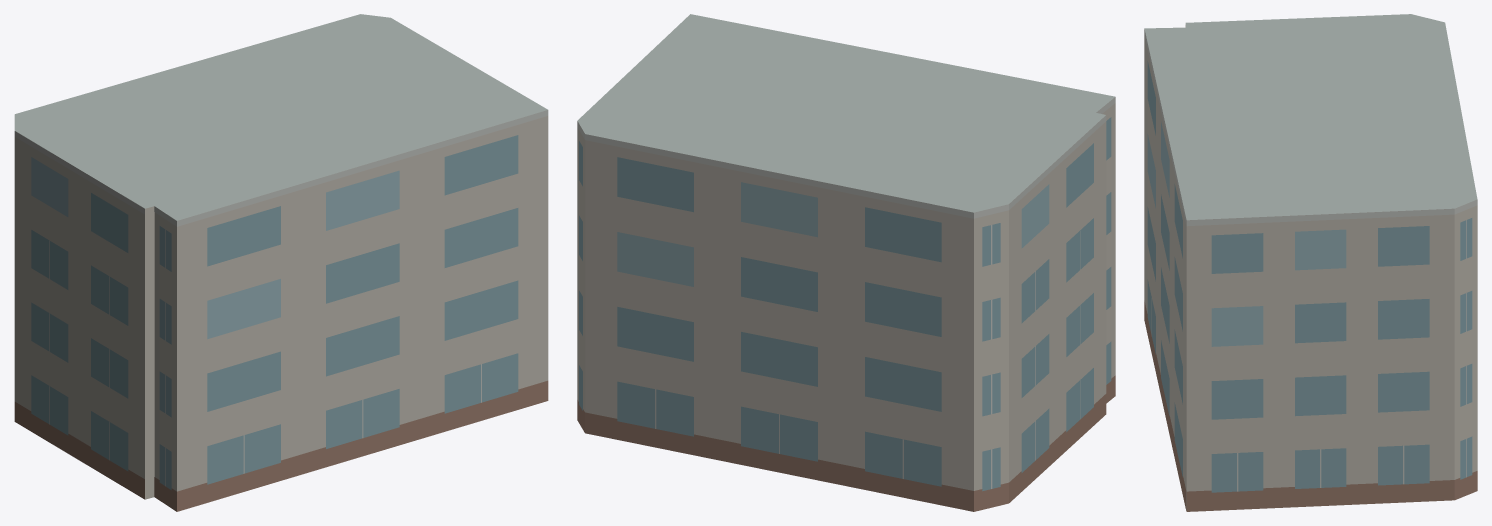
Rendered from survey-upis-32757691.glb.
The picture shows the model from 3 angles, left to right: view 1: azimuth 30°, elevation 25°; view 2: azimuth 150°, elevation 25°; view 3: azimuth 270°, elevation 25°; orthographic projection. The views are drawn at different scales.
Parts seen in each view (by area): view 1: survey-upis-32757691.tmp; view 2: survey-upis-32757691.tmp; view 3: survey-upis-32757691.tmp.
Boxes of the visible parts, x1,y1,x2,y2 form: survey-upis-32757691.tmp: [14, 14, 548, 511]; survey-upis-32757691.tmp: [577, 14, 1115, 511]; survey-upis-32757691.tmp: [1144, 14, 1477, 511].
Bounding box in the file's own units: 18.21 × 12 × 12.43.
